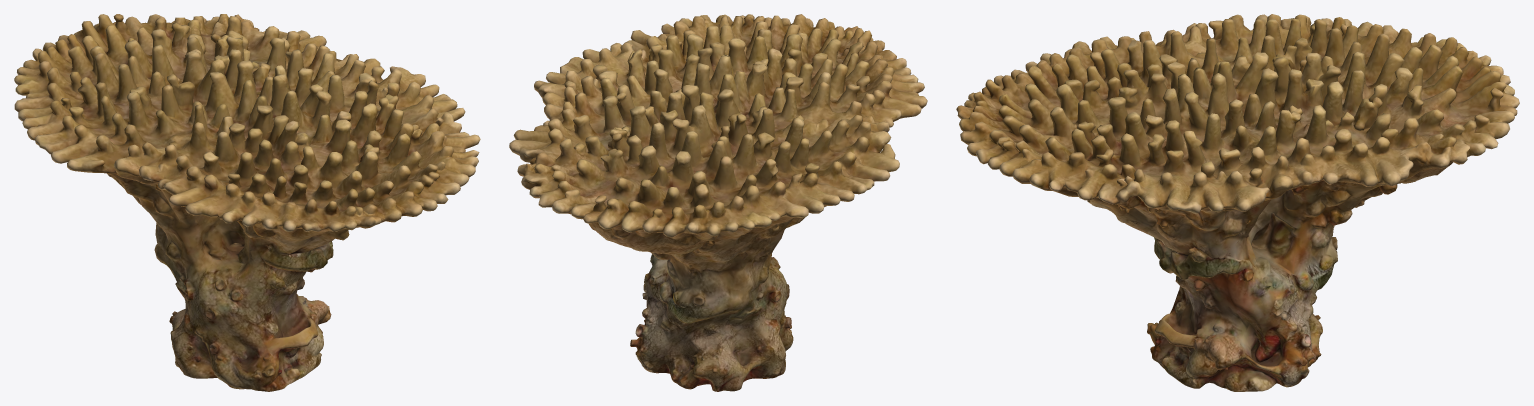
File: coral_table.glb
3 renders of one model, left to right at view 1: azimuth 30°, elevation 25°; view 2: azimuth 150°, elevation 25°; view 3: azimuth 270°, elevation 25°, orthographic. The views are drawn at different scales.
Parts seen in each view (by area): view 1: tripo_node_ad6afa1a-a3f0-42bb-8e1f-114390752161; view 2: tripo_node_ad6afa1a-a3f0-42bb-8e1f-114390752161; view 3: tripo_node_ad6afa1a-a3f0-42bb-8e1f-114390752161.
Part boxes in pixels (x1,y1,x2,y2): tripo_node_ad6afa1a-a3f0-42bb-8e1f-114390752161: (14, 14, 480, 391); tripo_node_ad6afa1a-a3f0-42bb-8e1f-114390752161: (509, 14, 927, 391); tripo_node_ad6afa1a-a3f0-42bb-8e1f-114390752161: (956, 14, 1519, 391).
Bounding box in the file's own units: 0.7873 × 0.5876 × 1.
1 material, 1 textured.
